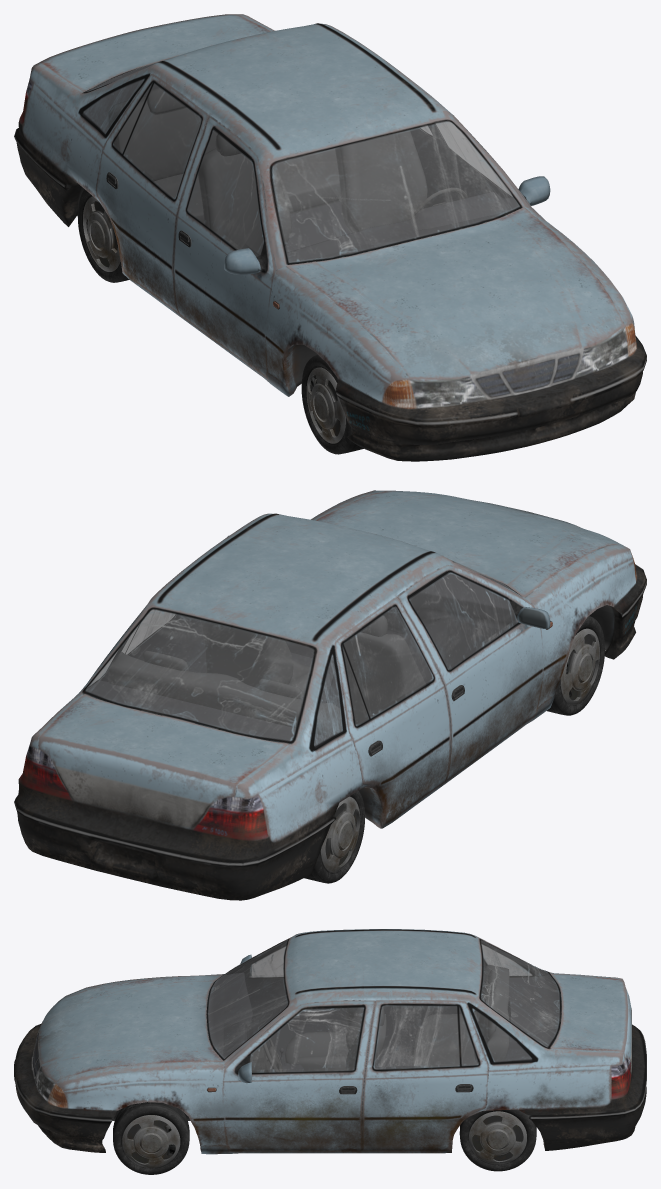
The model's file is small_car.gltf.
3 renders of one model, top to bottom at view 1: azimuth 30°, elevation 25°; view 2: azimuth 150°, elevation 25°; view 3: azimuth 270°, elevation 25°, orthographic. The views are drawn at different scales.
Parts seen in each view (by area): view 1: Plane, Plane.004, Cube.001, Cube.006, Cube.012, Plane.001, Cube.009, Cylinder.011, Cylinder.013, Cylinder.010, Cylinder.012, Cube.013; view 2: Plane, Plane.004, Cube.012, Plane.001, Cube.006, Cube.001, Cylinder.011, Cylinder.013, Cylinder.010, Cylinder.012; view 3: Plane, Plane.004, Cube.009, Cylinder.009, Cylinder.007, Cylinder.006, Plane.001, Cube.004, Cube.012, Cylinder.003, Cube.001, Cube.006 (+1 smaller).
Boxes of the visible parts, x1=… form: Plane: x1=14, y1=14, x2=646, y2=461; Plane.004: x1=82, y1=63, x2=517, y2=259; Cube.001: x1=335, y1=130, x2=427, y2=232; Cube.006: x1=198, y1=149, x2=291, y2=256; Cube.012: x1=108, y1=96, x2=217, y2=181; Plane.001: x1=287, y1=192, x2=519, y2=262; Cube.009: x1=154, y1=148, x2=340, y2=223; Cylinder.011: x1=306, y1=367, x2=345, y2=443; Cylinder.013: x1=83, y1=196, x2=120, y2=271; Cylinder.010: x1=301, y1=354, x2=363, y2=454; Cylinder.012: x1=77, y1=189, x2=129, y2=282; Cube.013: x1=147, y1=87, x2=186, y2=114; Plane: x1=14, y1=490, x2=646, y2=900; Plane.004: x1=86, y1=573, x2=512, y2=747; Cube.012: x1=108, y1=652, x2=341, y2=736; Plane.001: x1=326, y1=577, x2=516, y2=707; Cube.006: x1=342, y1=632, x2=425, y2=724; Cube.001: x1=200, y1=620, x2=293, y2=687; Cylinder.011: x1=560, y1=628, x2=599, y2=704; Cylinder.013: x1=320, y1=796, x2=360, y2=872; Cylinder.010: x1=547, y1=616, x2=604, y2=715; Cylinder.012: x1=304, y1=791, x2=364, y2=883; Plane: x1=14, y1=929, x2=646, y2=1154; Plane.004: x1=208, y1=940, x2=559, y2=1069; Cube.009: x1=412, y1=1012, x2=478, y2=1068; Cylinder.009: x1=469, y1=1111, x2=526, y2=1164; Cylinder.007: x1=122, y1=1115, x2=180, y2=1167; Cylinder.006: x1=113, y1=1102, x2=189, y2=1174; Plane.001: x1=223, y1=973, x2=305, y2=1072; Cube.004: x1=285, y1=1031, x2=348, y2=1071; Cube.012: x1=474, y1=964, x2=509, y2=1063; Cylinder.003: x1=459, y1=1109, x2=536, y2=1171; Cube.001: x1=346, y1=1015, x2=386, y2=1070; Cube.006: x1=346, y1=1007, x2=363, y2=1050.
Size of the model in its own units: 2.59 by 1.76 by 5.84.
Materials: 19 (19 with a texture image).
